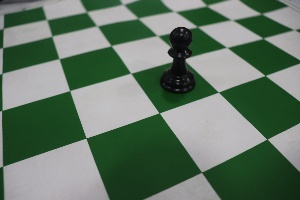black_pawn: (155, 15, 201, 98)
